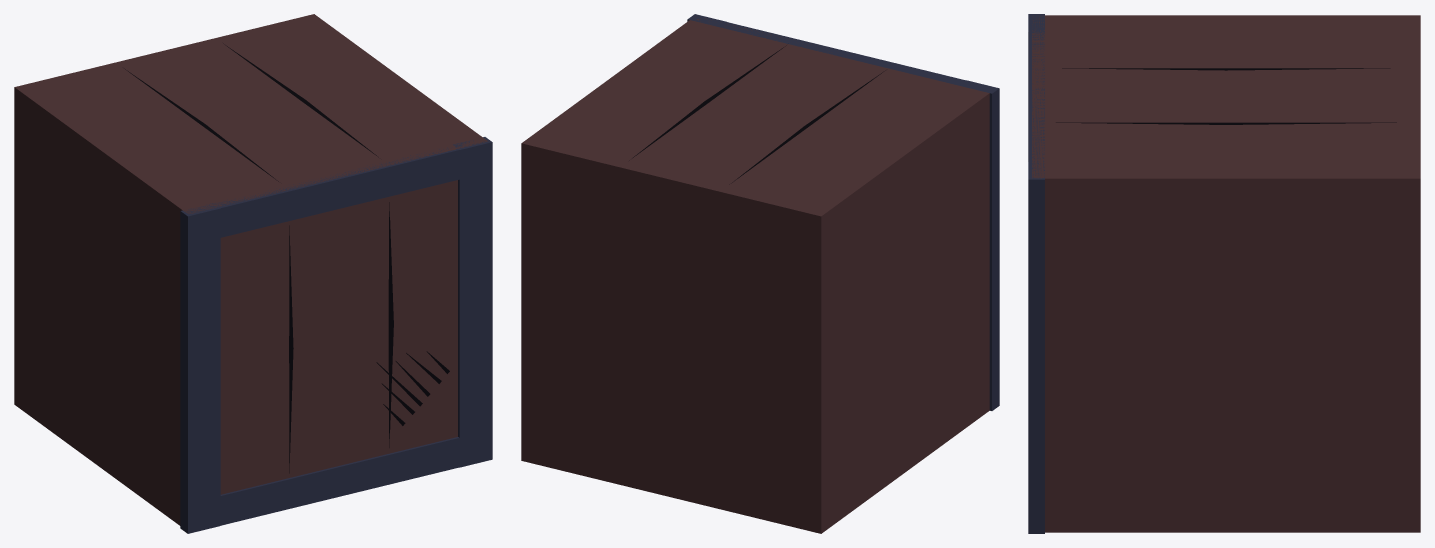
Rendered from box_large.glb.
The picture shows the model from 3 angles, left to right: view 1: azimuth 30°, elevation 25°; view 2: azimuth 150°, elevation 25°; view 3: azimuth 270°, elevation 25°; orthographic projection. The views are drawn at different scales.
Parts seen in each view (by area): view 1: box_large.001; view 2: box_large.001; view 3: box_large.001.
Boxes of the visible parts, x1,y1,x2,y2 form: box_large.001: [14, 14, 492, 533]; box_large.001: [521, 14, 999, 533]; box_large.001: [1028, 14, 1420, 533].
Size of the model in its own units: 1.5 by 1.5 by 1.5.
